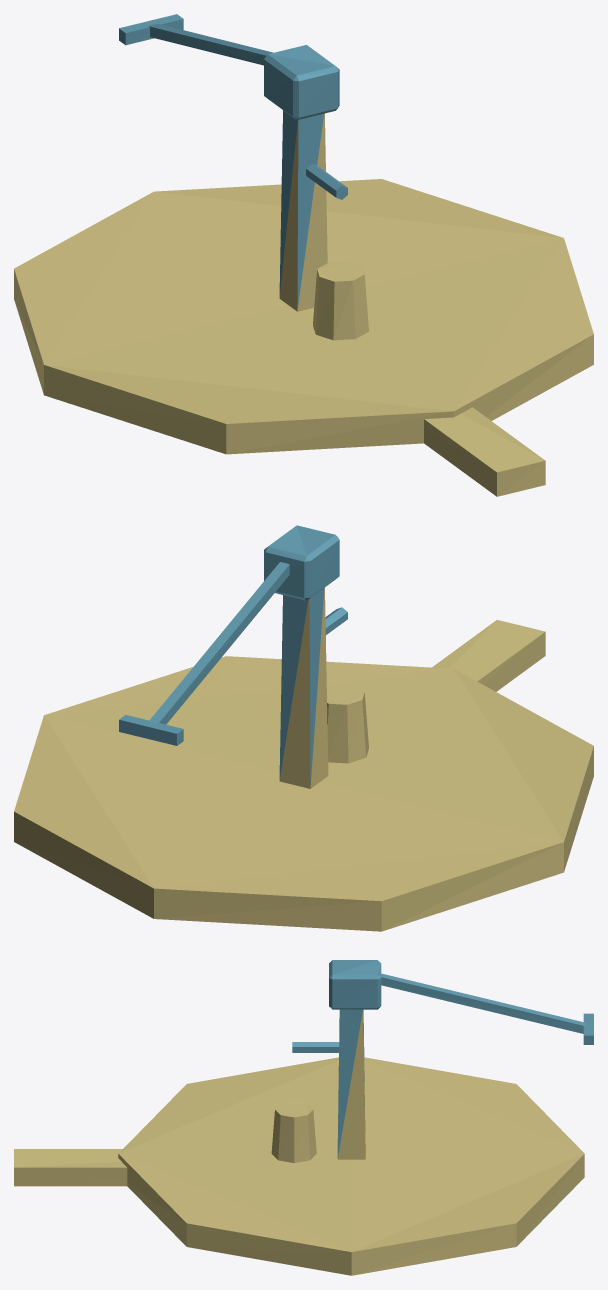
File: water-pump-00.glb
The picture shows the model from 3 angles, top to bottom: view 1: azimuth 30°, elevation 25°; view 2: azimuth 150°, elevation 25°; view 3: azimuth 270°, elevation 25°; orthographic projection. The views are drawn at different scales.
Visible parts, largest first — view 1: water_pump_00; view 2: water_pump_00; view 3: water_pump_00.
Part boxes in pixels (box(x1,y1,x2,y2)): water_pump_00: box(14, 14, 593, 496); water_pump_00: box(14, 525, 593, 931); water_pump_00: box(14, 960, 593, 1275).
Size of the model in its own units: 2.68 by 1.33 by 3.33.
